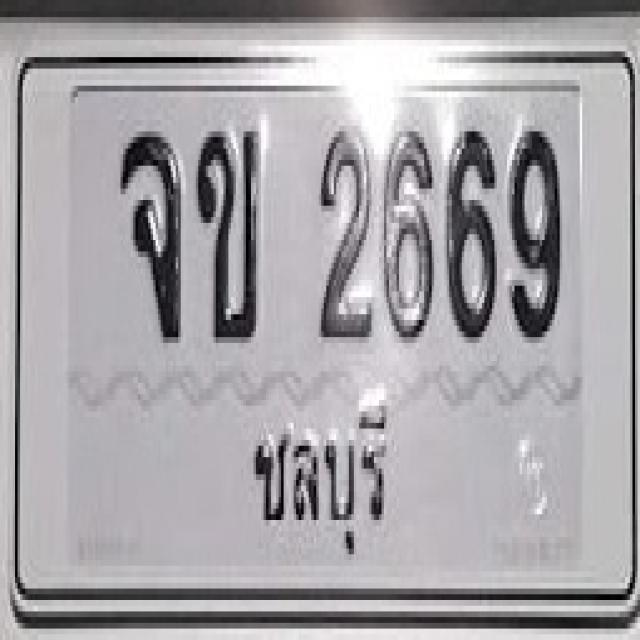license_plate: (12, 45, 640, 640)
